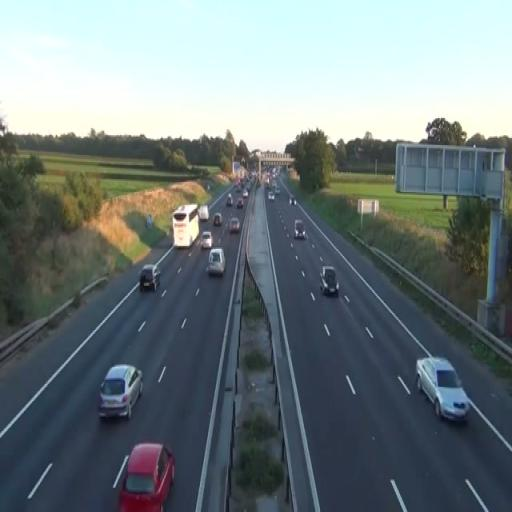Bus: (172, 204, 200, 250)
Car: (115, 442, 176, 511), (416, 355, 470, 424), (96, 364, 144, 420), (320, 265, 339, 297), (206, 248, 226, 278), (139, 264, 161, 291), (294, 220, 306, 240), (200, 230, 212, 249), (198, 205, 209, 220), (212, 212, 223, 226), (229, 218, 239, 233), (236, 197, 244, 208)
